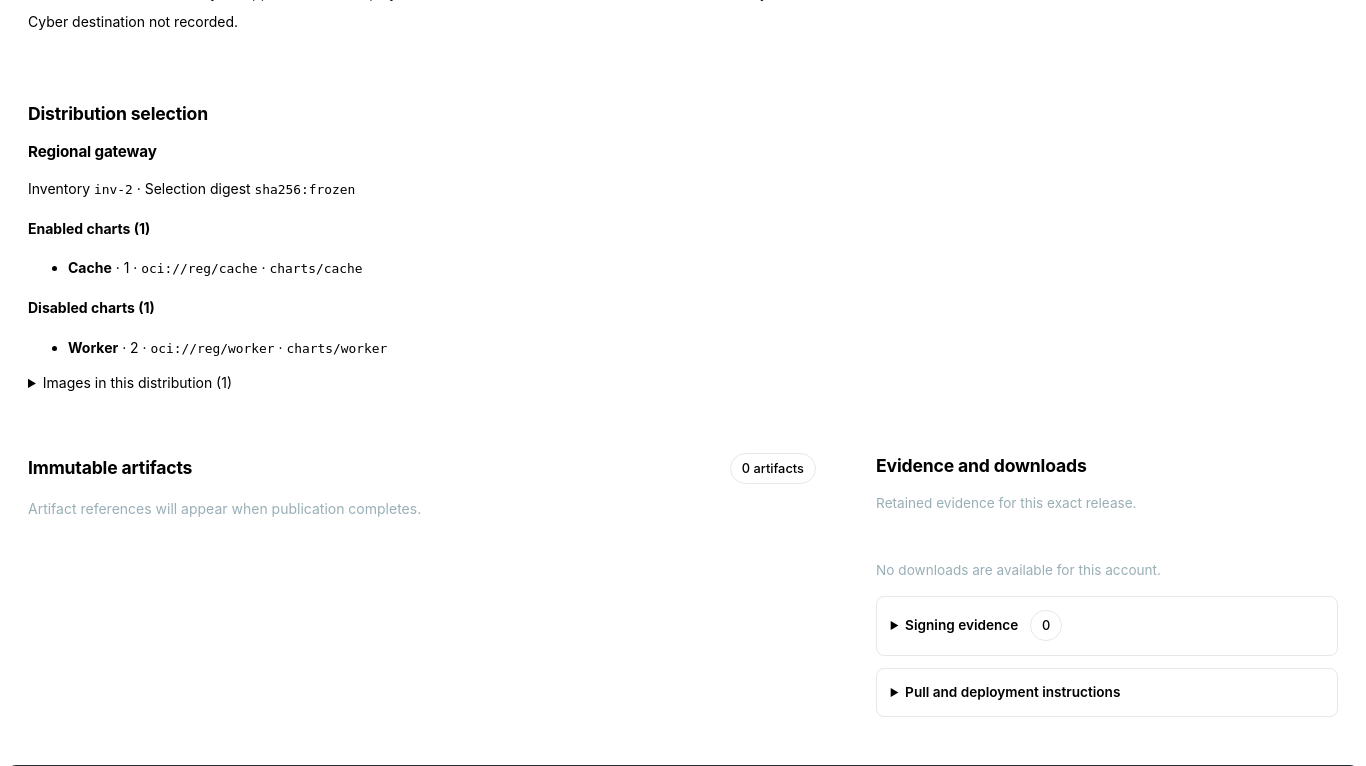
Scenario: shows frozen chart settings and image identities in the decision and release views
The image size is (1366, 766).
(page scrolled)
Expected: the heading "Regional gateway" is shown, 28,142 -> 157,161
Click the heading "Images in this distribution (1)": (137, 383) 43,374 -> 232,391
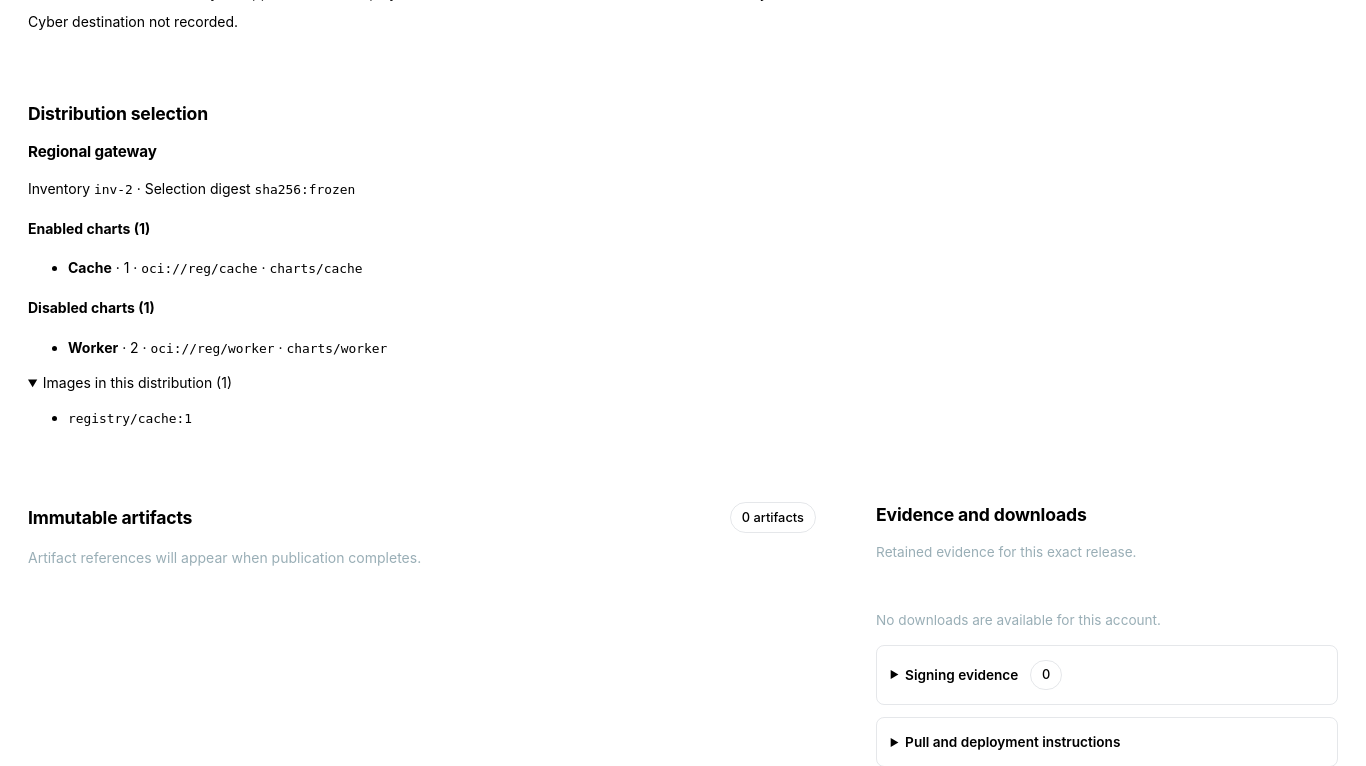
Now the text "registry/cache:1" is shown, box 68,411 -> 192,426
